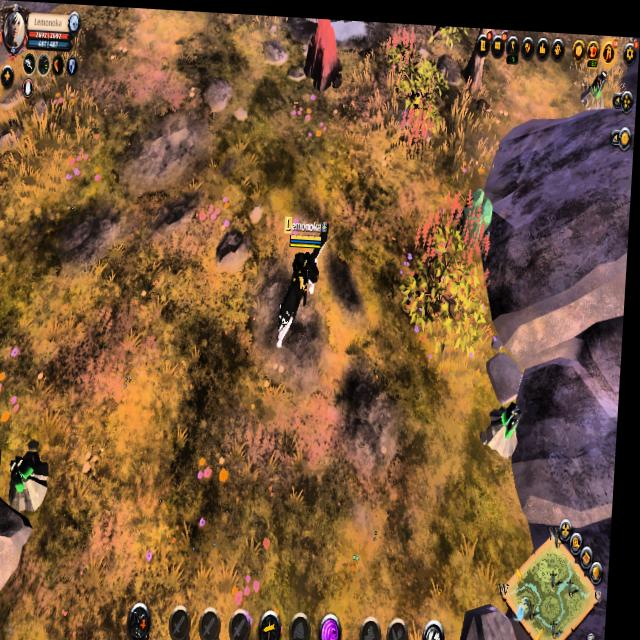ore tier 3: (486, 387, 528, 459), (12, 446, 55, 511)
rock tier 5: (302, 14, 350, 90)
